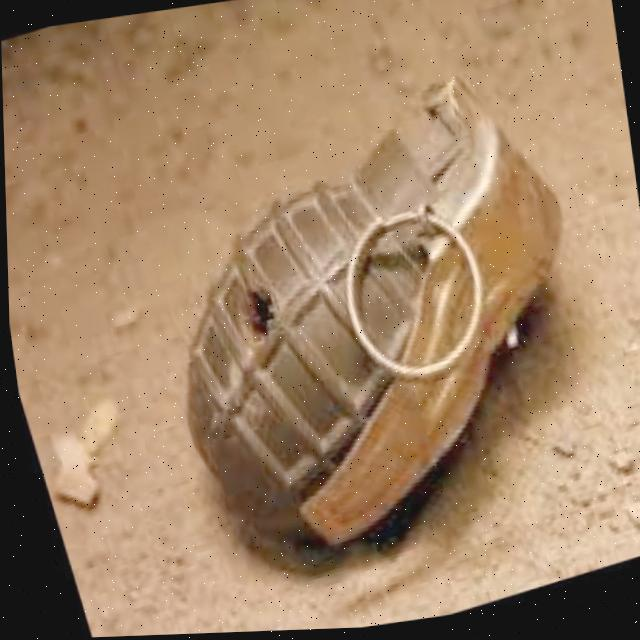grenade: (98, 44, 626, 583)
